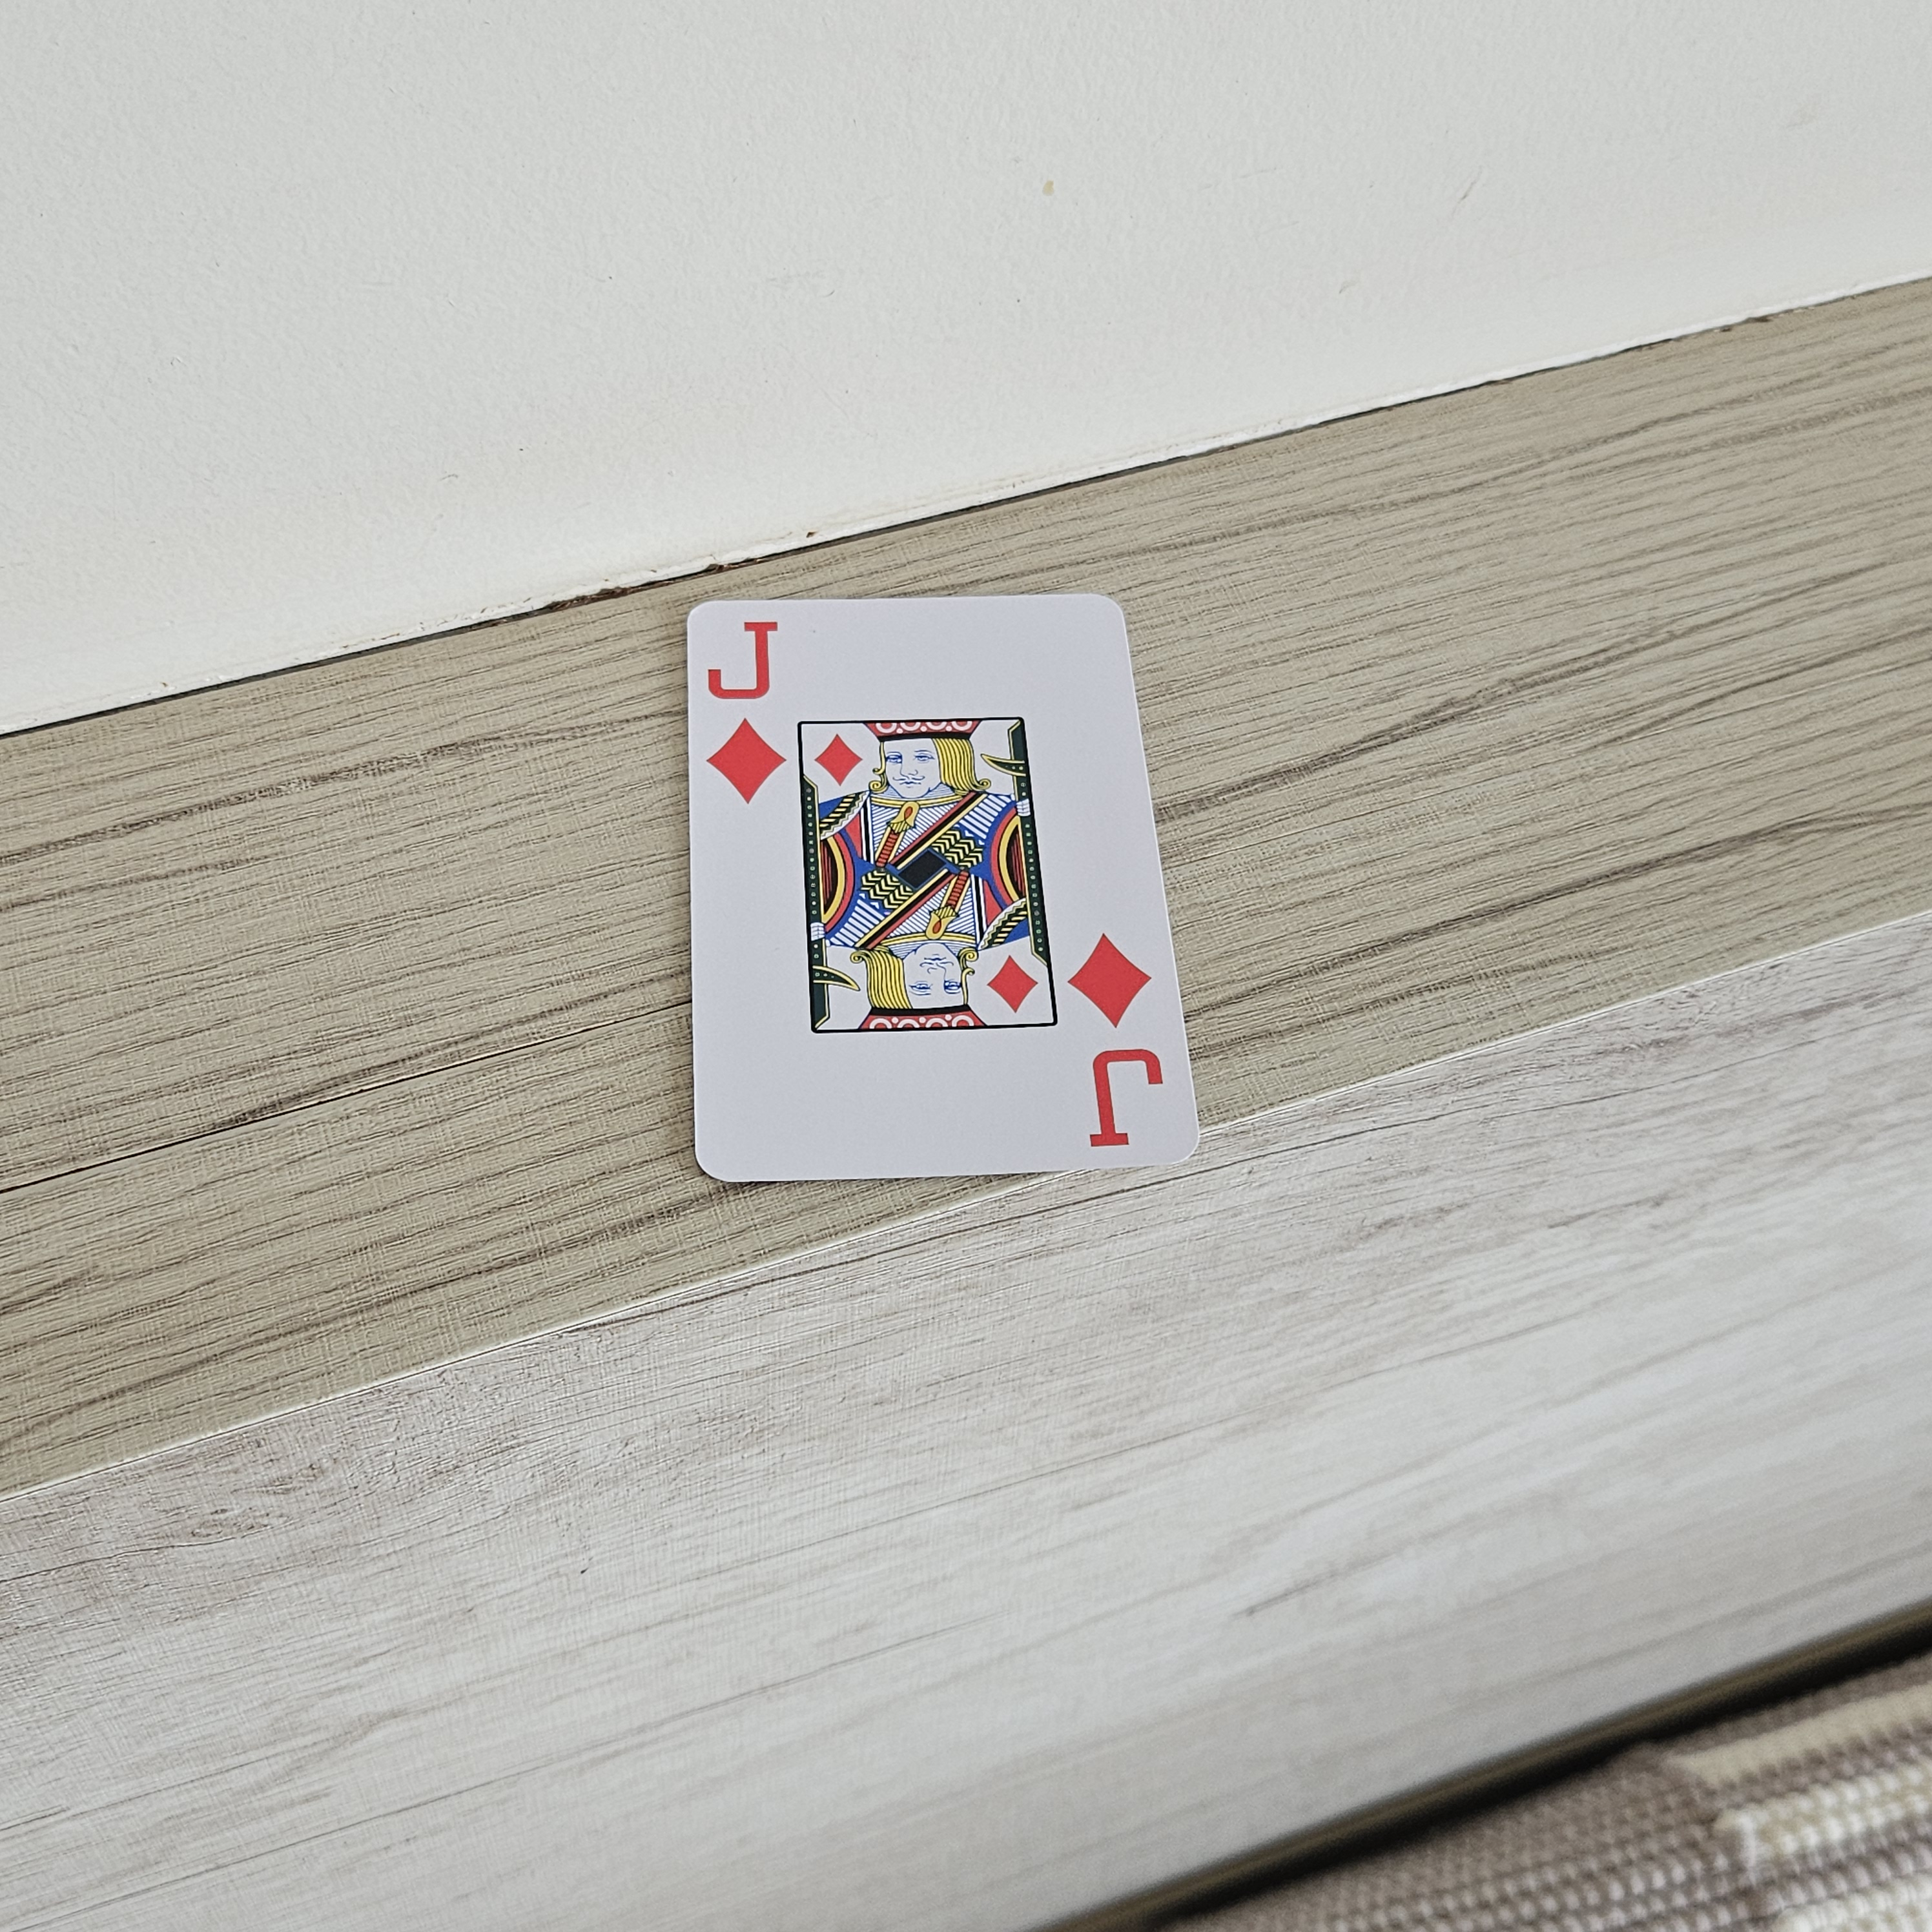JO: (1058, 924, 1178, 1155), (690, 603, 796, 812)
